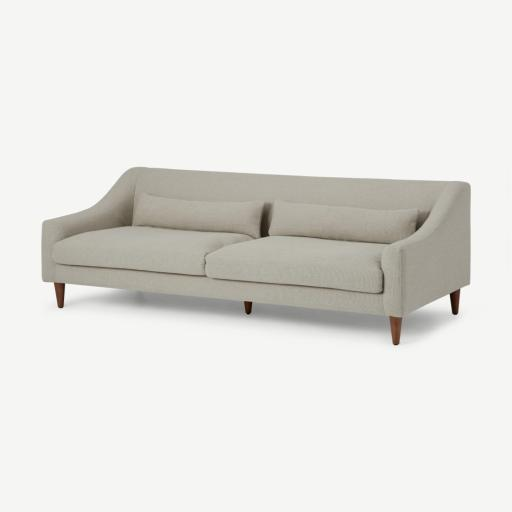back_cushion: (125, 170, 445, 239)
base: (58, 267, 401, 310)
left_arm: (394, 178, 470, 312)
legs: (399, 312, 412, 343), (55, 286, 66, 312), (447, 289, 456, 313), (239, 300, 247, 317)
right_arm: (42, 170, 141, 285)
seat_cushion: (53, 227, 395, 289)
two-seater: (0, 0, 511, 512)
